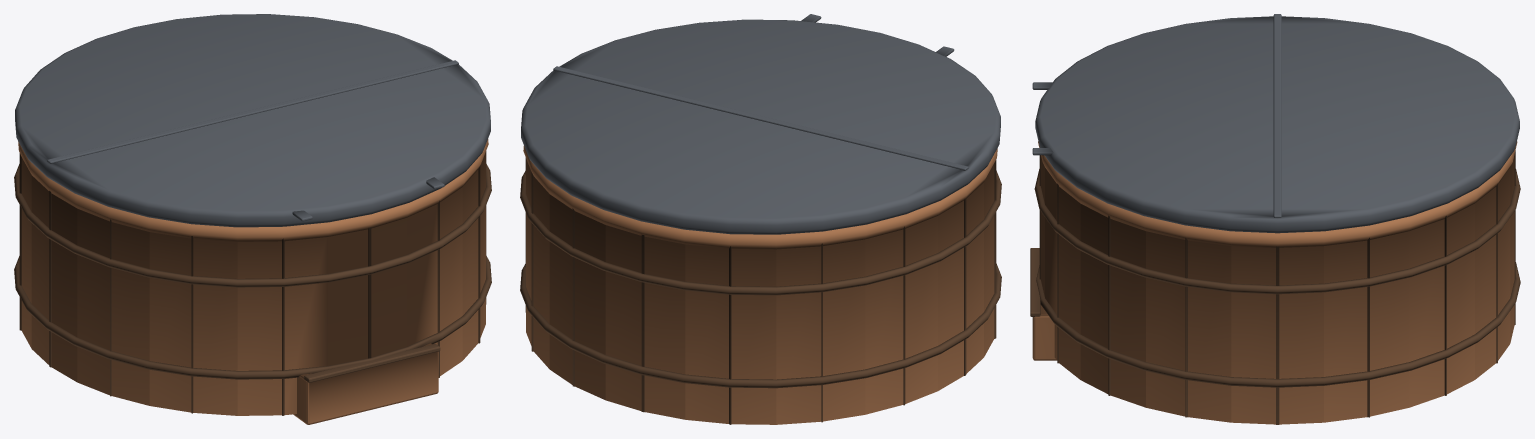
File: hotTubCedar.glb
3 renders of one model, left to right at view 1: azimuth 30°, elevation 25°; view 2: azimuth 150°, elevation 25°; view 3: azimuth 270°, elevation 25°, orthographic.
Parts seen in each view (by area): view 1: tub, cover; view 2: tub, cover; view 3: tub, cover.
Boxes of the visible parts, box(x1,y1,x2,y2) form: tub: box(14, 139, 491, 424); cover: box(15, 14, 490, 227); tub: box(520, 146, 1001, 424); cover: box(521, 14, 1000, 234); tub: box(1030, 141, 1520, 424); cover: box(1032, 14, 1519, 233).
Bounding box in the file's own units: 1.89 × 0.917 × 1.9.
